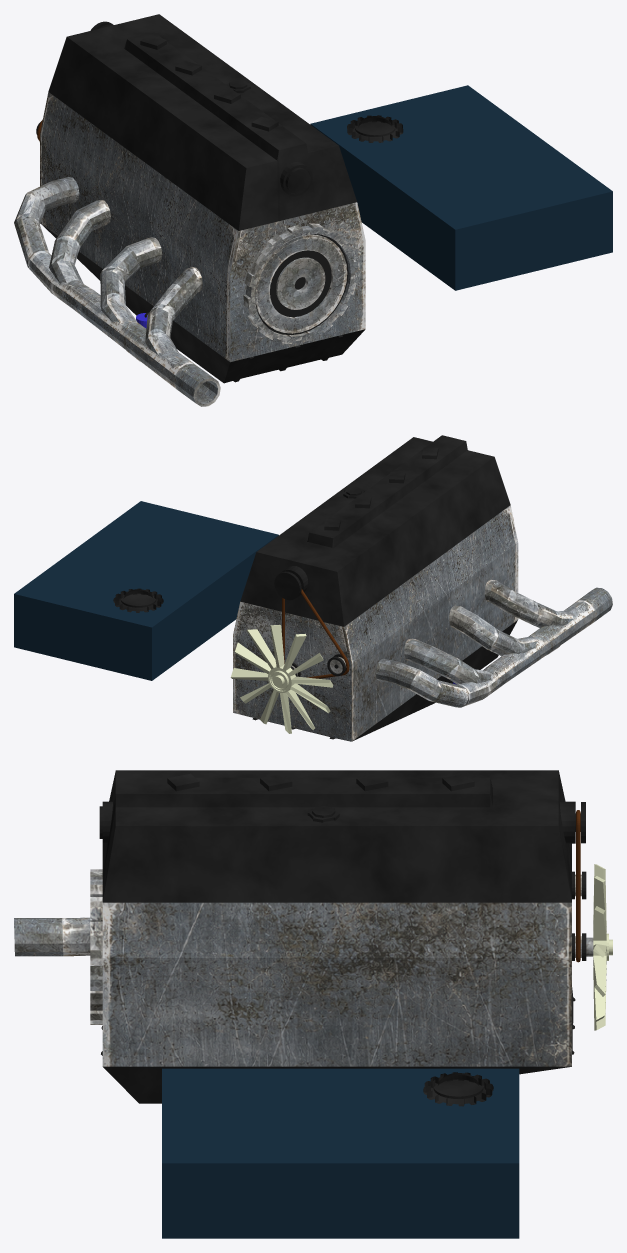
The model's file is MotorAuto.fbx.
The picture shows the model from 3 angles, top to bottom: view 1: azimuth 30°, elevation 25°; view 2: azimuth 150°, elevation 25°; view 3: azimuth 270°, elevation 25°; orthographic projection. The views are drawn at different scales.
Parts seen in each view (by area): view 1: Bloque Motor; view 2: Bloque Motor; view 3: Bloque Motor.
Boxes of the visible parts, left/top/right/bottom form: Bloque Motor: left=14, top=14, right=612, bottom=406; Bloque Motor: left=14, top=435, right=612, bottom=741; Bloque Motor: left=14, top=770, right=612, bottom=1238.
Size of the model in its own units: 0.7255 by 0.3401 by 0.6359.
7 materials, 2 textured.
